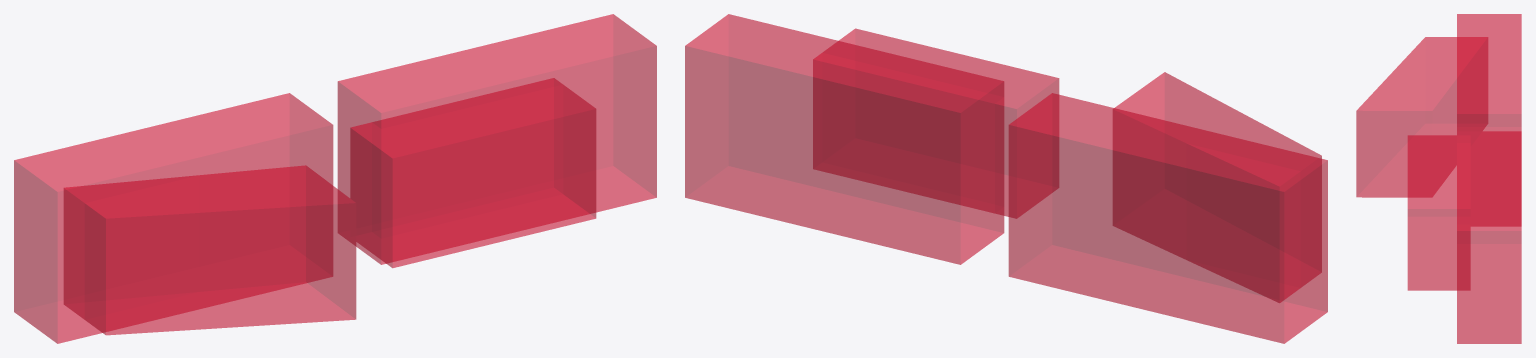
Rendered from Pillow_01_collision.DAE.
3 views of the same model, side by side, from view 1: azimuth 30°, elevation 25°; view 2: azimuth 150°, elevation 25°; view 3: azimuth 270°, elevation 25° (orthographic). The views are drawn at different scales.
Parts seen in each view (by area): view 1: Pillow_01_collision; view 2: Pillow_01_collision; view 3: Pillow_01_collision.
Part boxes in pixels (x1,y1,x2,y2): Pillow_01_collision: [14, 14, 656, 343]; Pillow_01_collision: [685, 14, 1327, 343]; Pillow_01_collision: [1356, 14, 1521, 343].
Size of the model in its own units: 170 by 54.84 by 41.31.
